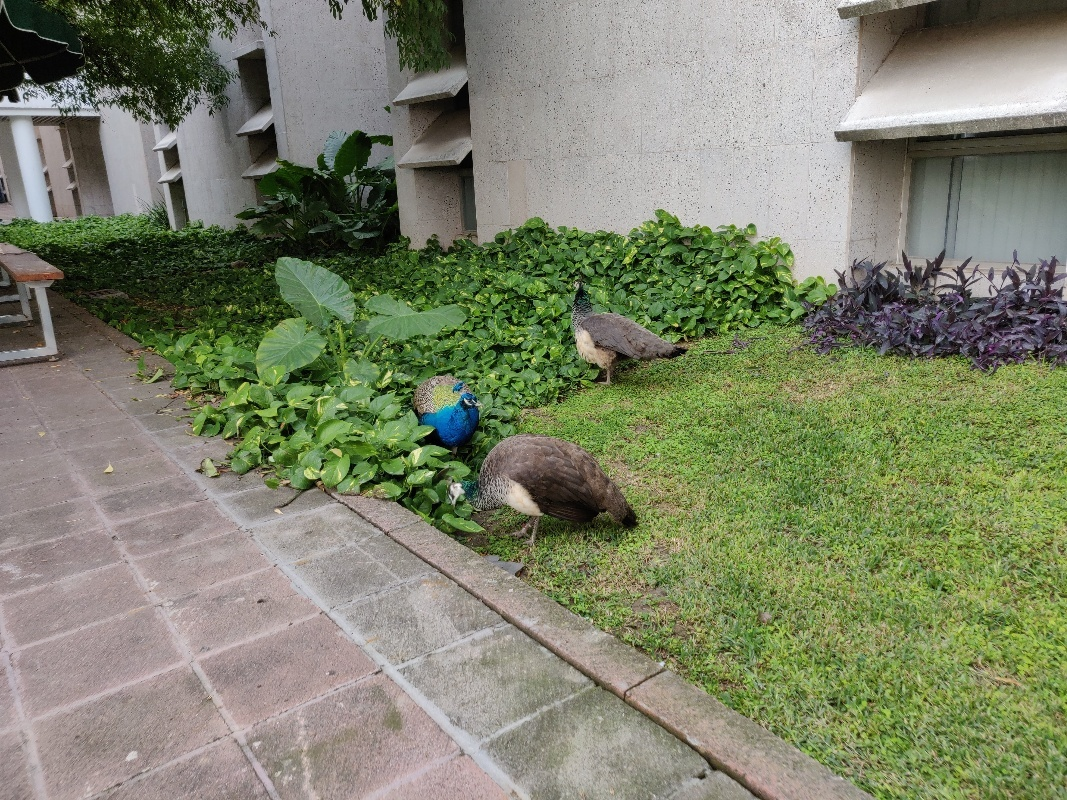pavoreal: (445, 441, 647, 554), (565, 272, 680, 387), (406, 369, 486, 441)
